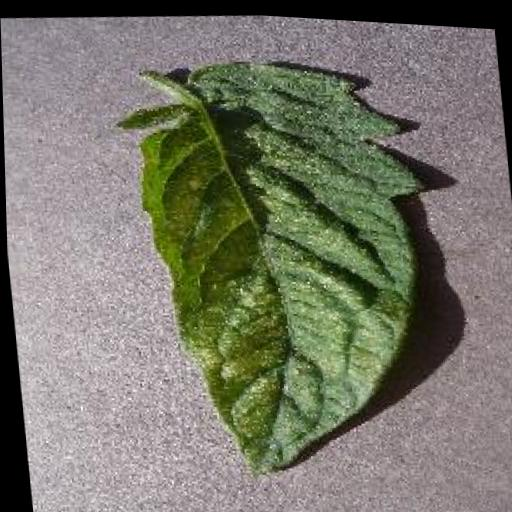Spider Mites: (128, 38, 446, 489)
